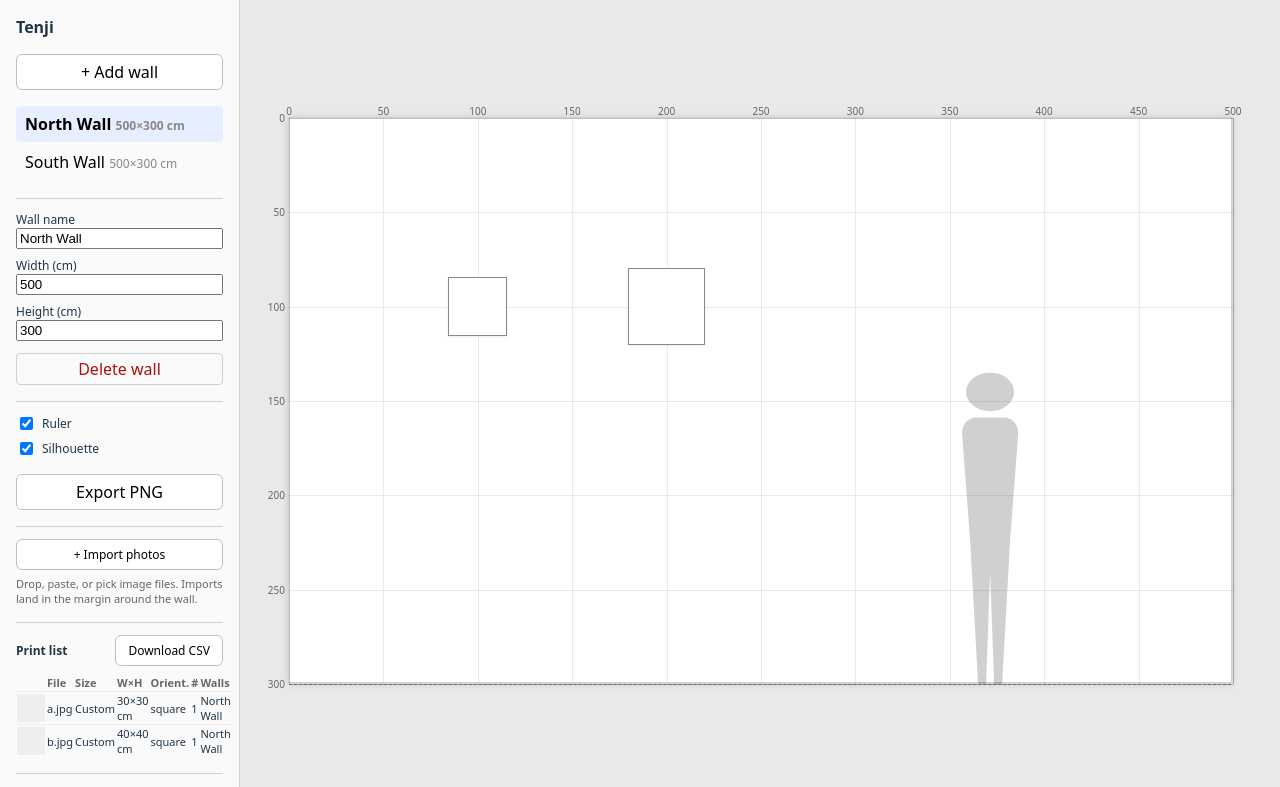
Scenario: App › copy/paste › right-clicking an unselected placement makes it the selection before showing the menu
The image size is (1280, 787).
Right-click the element with test id "placement-pl-b" at (667, 307), box [629,269,704,344]
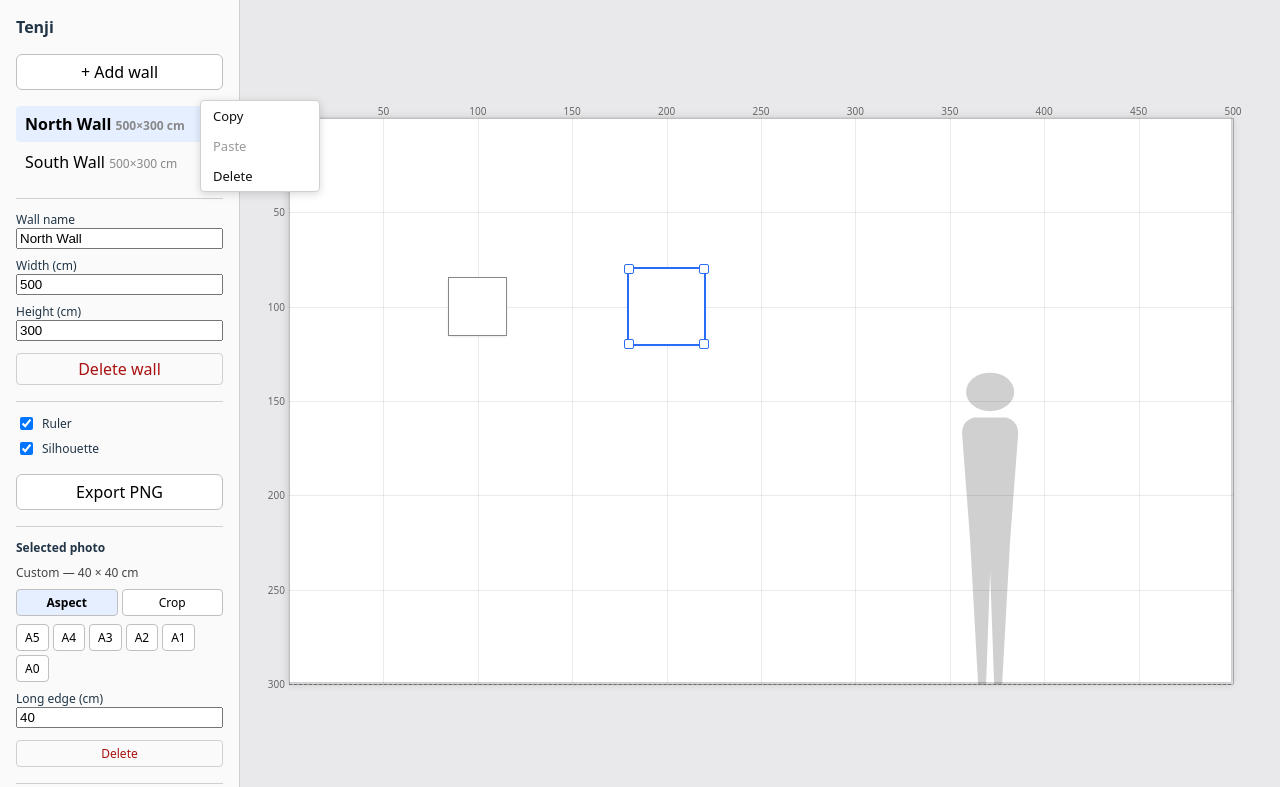
Now the menu with test id "context-menu" is shown, box [200,100,320,192]
